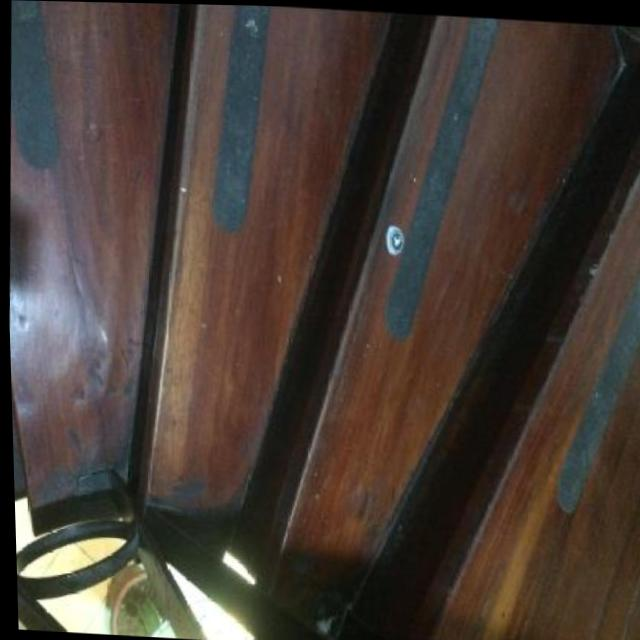metal: (384, 222, 405, 255)
